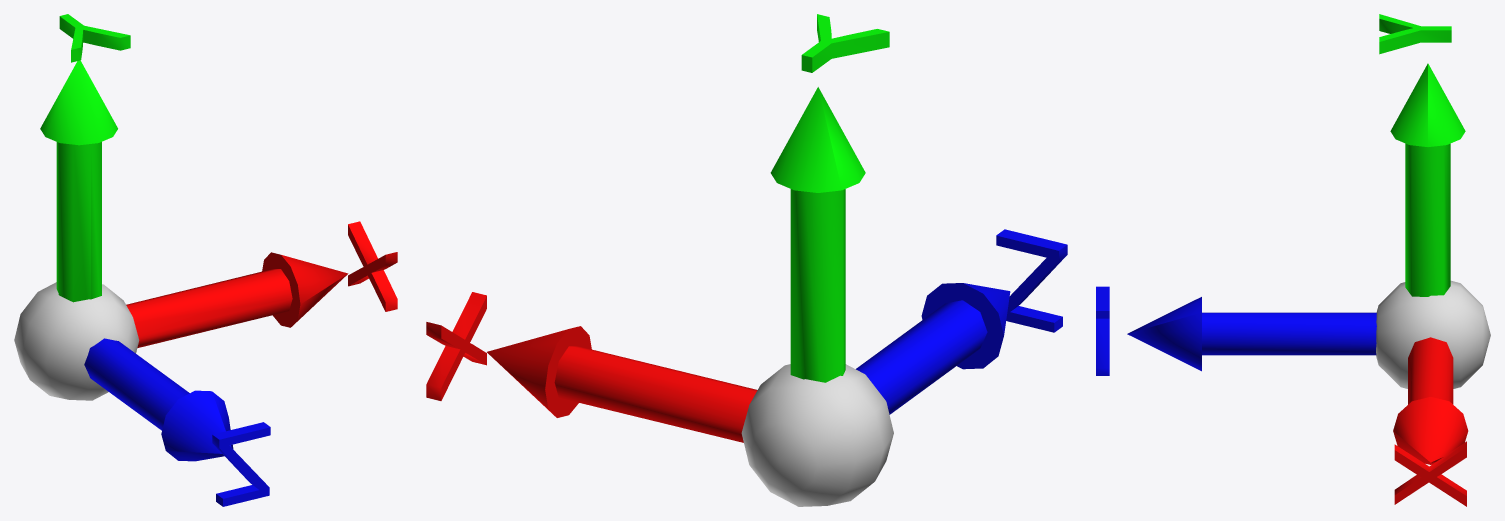
The model's file is gnomon.gltf.
The picture shows the model from 3 angles, left to right: view 1: azimuth 30°, elevation 25°; view 2: azimuth 150°, elevation 25°; view 3: azimuth 270°, elevation 25°; orthographic projection. The views are drawn at different scales.
Visible parts, largest first — view 1: mesh6, mesh3, mesh4, mesh5, mesh1, mesh2, mesh0, mesh9, mesh7, mesh8; view 2: mesh6, mesh3, mesh4, mesh5, mesh1, mesh0, mesh2, mesh9, mesh7, mesh8; view 3: mesh6, mesh5, mesh4, mesh0, mesh1, mesh2, mesh3, mesh7, mesh8, mesh9.
Boxes of the visible parts, <box> form: mesh6: <box>14,282,139,400</box>; mesh3: <box>126,269,292,347</box>; mesh4: <box>56,142,101,302</box>; mesh5: <box>84,338,189,430</box>; mesh1: <box>40,60,117,145</box>; mesh2: <box>161,390,233,461</box>; mesh0: <box>262,252,348,327</box>; mesh9: <box>212,422,270,506</box>; mesh7: <box>348,221,397,311</box>; mesh8: <box>59,14,130,62</box>; mesh6: <box>741,364,893,506</box>; mesh3: <box>554,346,757,442</box>; mesh4: <box>790,189,845,382</box>; mesh5: <box>856,300,987,414</box>; mesh1: <box>770,87,865,192</box>; mesh0: <box>487,326,591,417</box>; mesh2: <box>921,283,1010,369</box>; mesh9: <box>996,229,1067,332</box>; mesh7: <box>426,292,486,400</box>; mesh8: <box>801,14,889,72</box>; mesh6: <box>1376,280,1490,388</box>; mesh5: <box>1202,312,1376,355</box>; mesh4: <box>1405,143,1450,296</box>; mesh0: <box>1393,397,1468,464</box>; mesh1: <box>1390,63,1465,146</box>; mesh2: <box>1127,297,1201,371</box>; mesh3: <box>1408,337,1453,404</box>; mesh7: <box>1394,441,1466,506</box>; mesh8: <box>1379,14,1451,54</box>; mesh9: <box>1096,286,1109,375</box>.
Bounding box in the file's own units: 0.2634 × 0.2644 × 0.2624.
